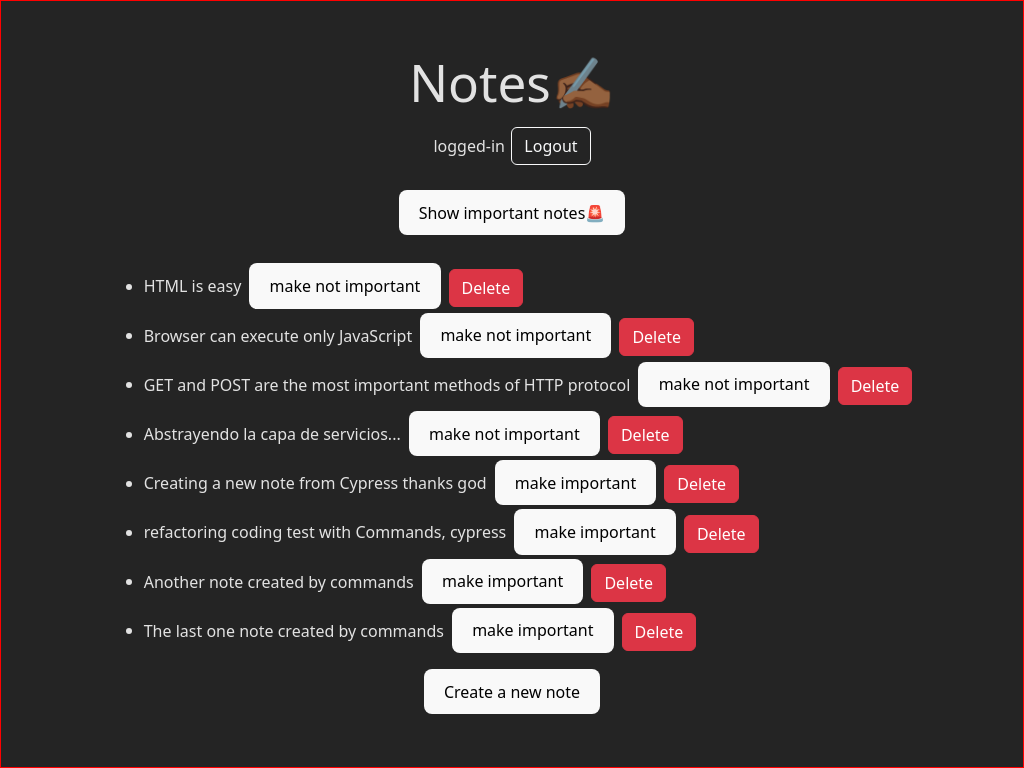
Test: Note app › when logged in › and several notes exist › it can be made important
Click the 2nd button "make important". click: (595, 532)
box: top-left (514, 509), bottom-right (676, 554)
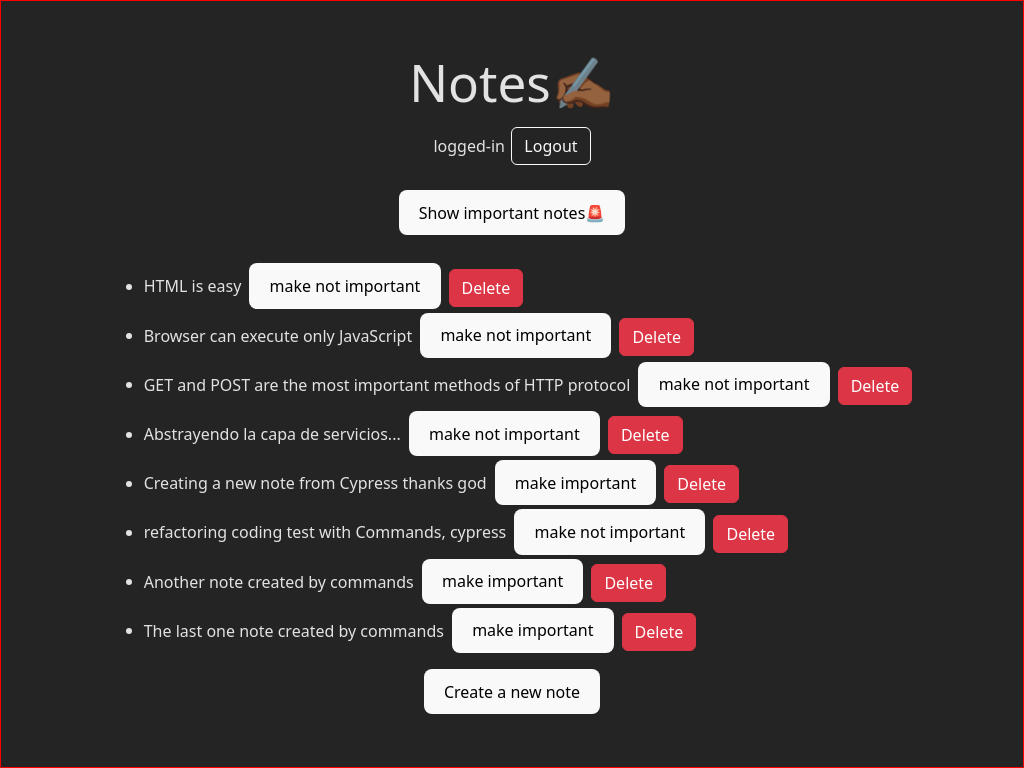
Check: the 5th button "make not important" is shown, box top-left (514, 509), bottom-right (706, 554)
